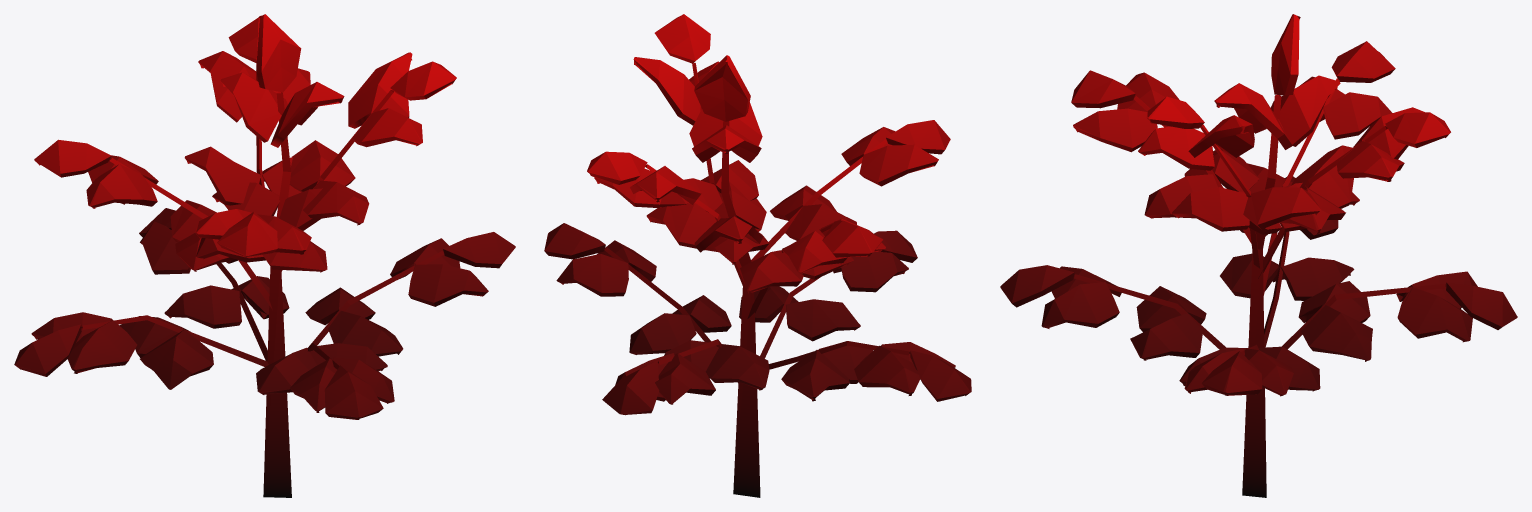
File: TreeWalnutSmall01.fbx
3 renders of one model, left to right at view 1: azimuth 30°, elevation 25°; view 2: azimuth 150°, elevation 25°; view 3: azimuth 270°, elevation 25°, orthographic. The views are drawn at different scales.
Parts seen in each view (by area): view 1: TreeWalnutSmall01_LOD0; view 2: TreeWalnutSmall01_LOD0; view 3: TreeWalnutSmall01_LOD0.
Part boxes in pixels (bbox=[...]): TreeWalnutSmall01_LOD0: bbox=[14, 14, 515, 497]; TreeWalnutSmall01_LOD0: bbox=[544, 14, 971, 497]; TreeWalnutSmall01_LOD0: bbox=[1000, 14, 1517, 497].
Size of what is drawn, in the model's own units: 127 by 121 by 118.
